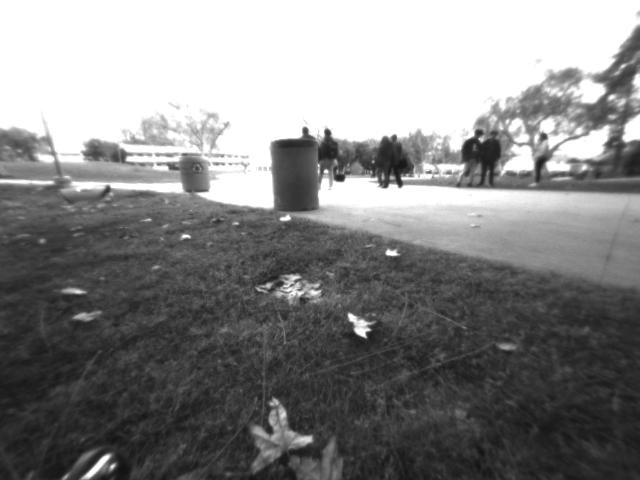trashcan: (270, 136, 321, 211), (181, 155, 213, 197)
